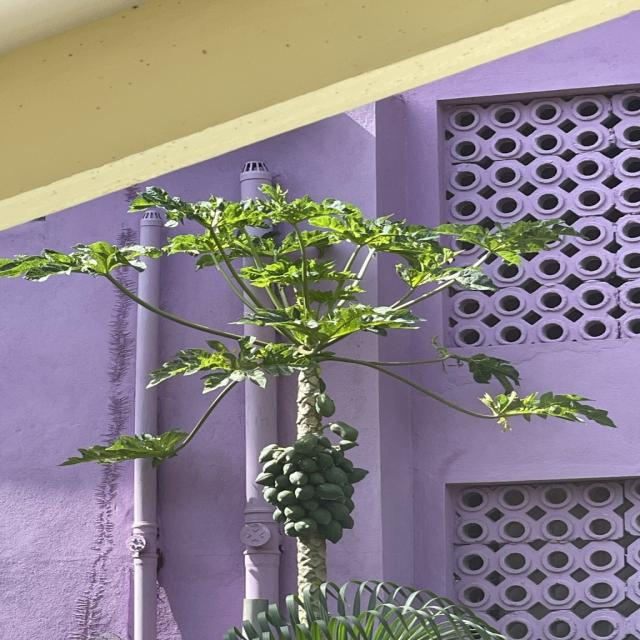Papaya-Tree: (0, 147, 595, 640)
